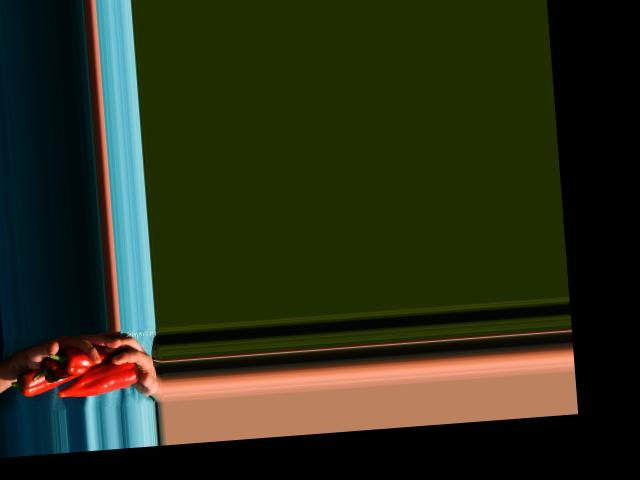bell_pepper: (9, 365, 64, 397)
